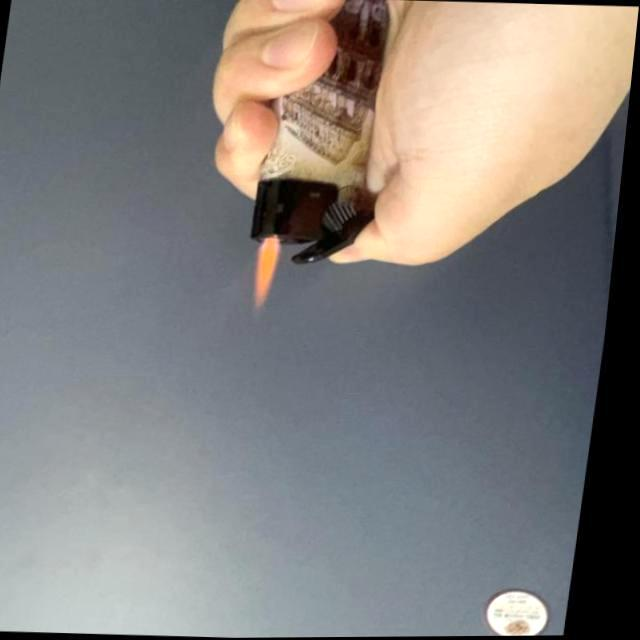fire: (253, 235, 293, 312)
